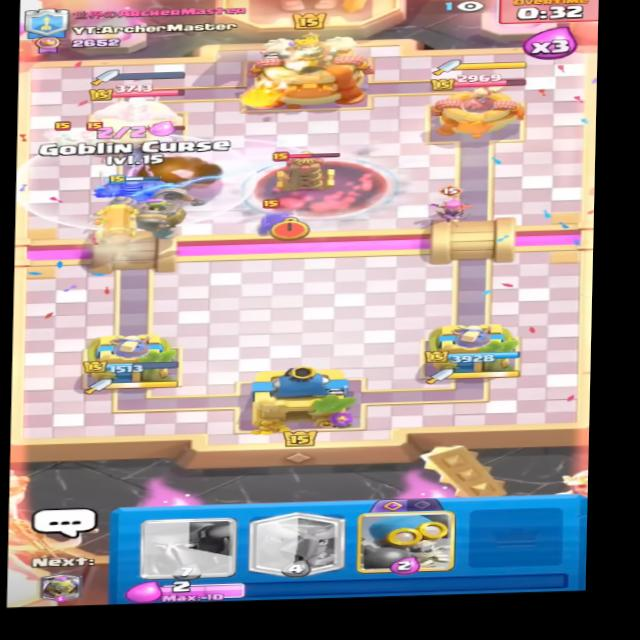electro-spirit: (249, 200, 293, 240)
evo-archers: (428, 184, 473, 218)
fireball: (220, 74, 299, 111)
tesla: (268, 149, 342, 200)
